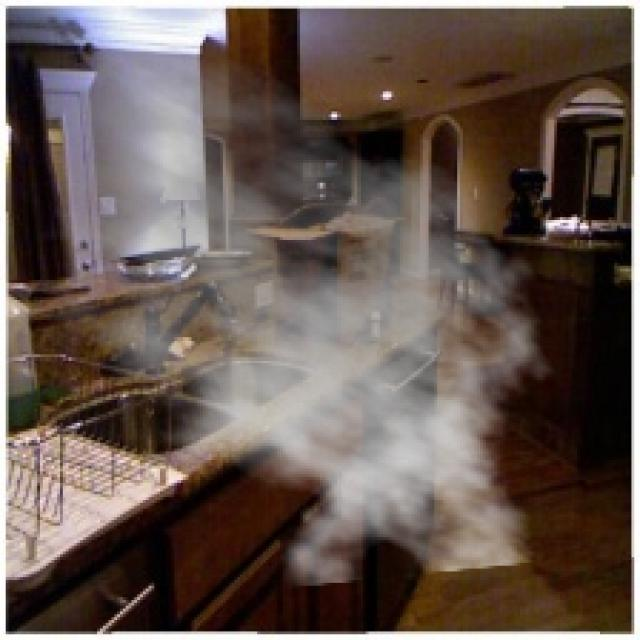Smoke: (6, 42, 572, 588)
